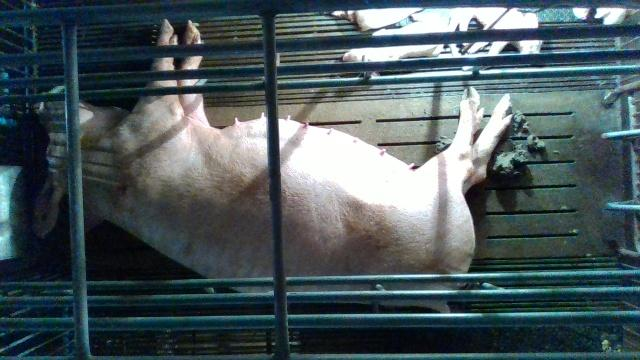piglet: (342, 21, 450, 62), (447, 7, 541, 54)
sow-sleep-lactate: (31, 19, 511, 313)
